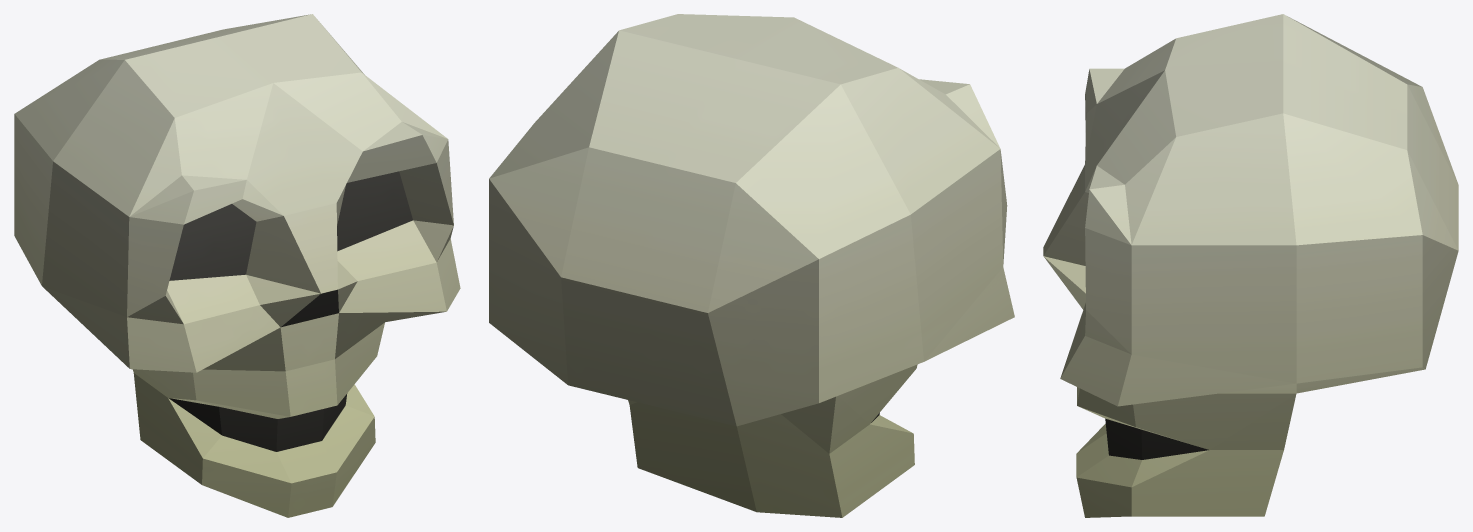
Rendered from Skull.fbx.
The picture shows the model from 3 angles, left to right: view 1: azimuth 30°, elevation 25°; view 2: azimuth 150°, elevation 25°; view 3: azimuth 270°, elevation 25°; orthographic projection. The views are drawn at different scales.
Visible parts, largest first — view 1: Skull; view 2: Skull; view 3: Skull.
Boxes of the visible parts, <box> form: Skull: <box>14,14,460,517</box>; Skull: <box>489,14,1014,517</box>; Skull: <box>1043,14,1458,517</box>.
Bounding box in the file's own units: 22.76 × 22.13 × 26.02.
1 material, 1 textured.
